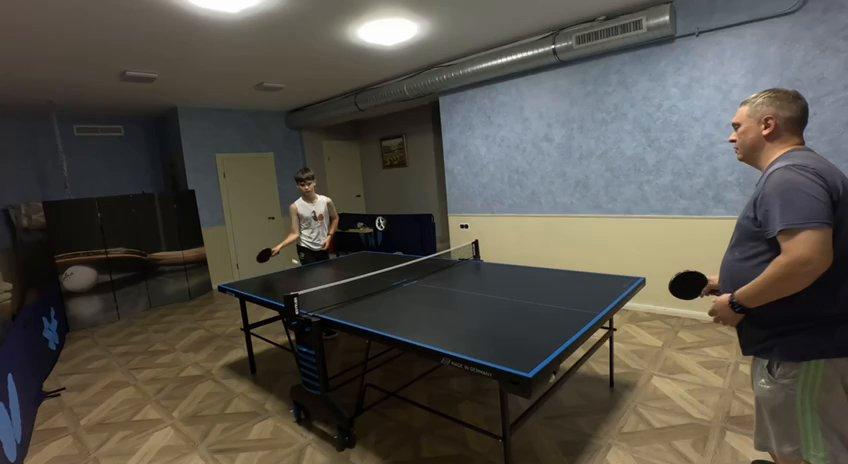Ball: (292, 257, 301, 266)
Net: (283, 240, 481, 321)
Player1: (272, 167, 338, 263)
Player2: (703, 88, 847, 463)
Table: (222, 253, 640, 377)
